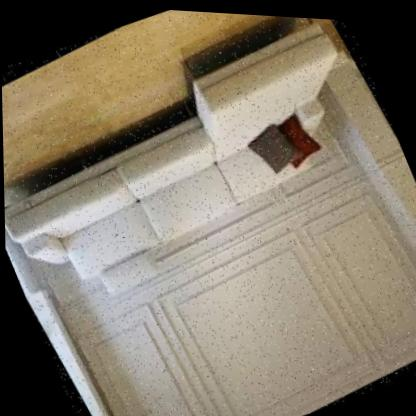Sofa: (0, 0, 416, 352)
